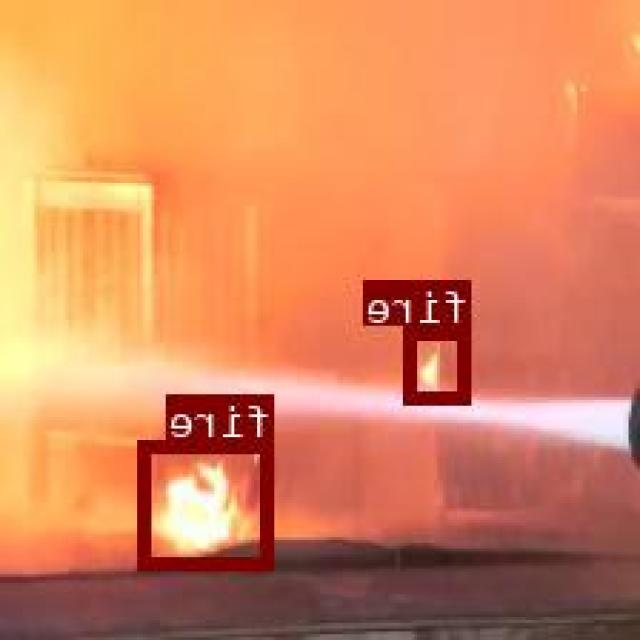fire: (141, 438, 276, 566), (408, 323, 472, 400)
